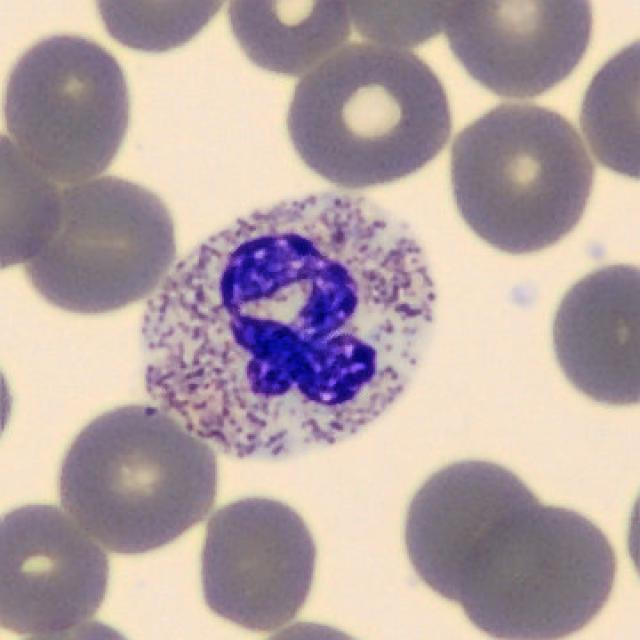Neutrofilo segmentado: (144, 194, 434, 455)
